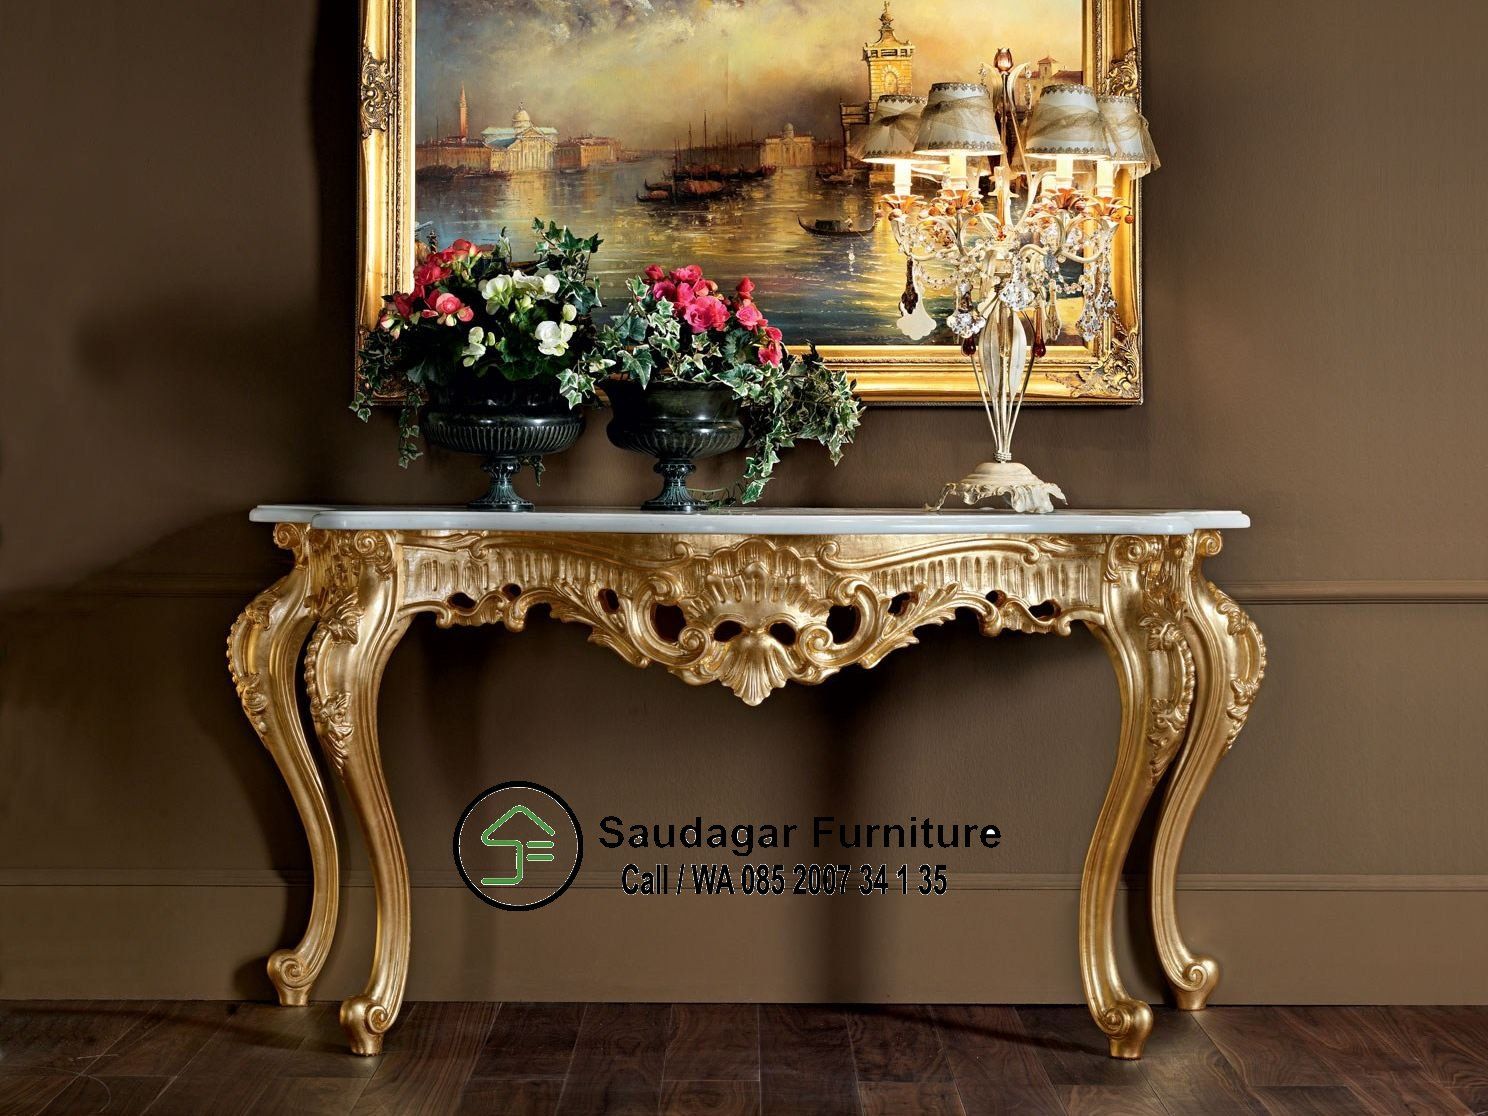Carving Table: (216, 489, 1288, 1070)
